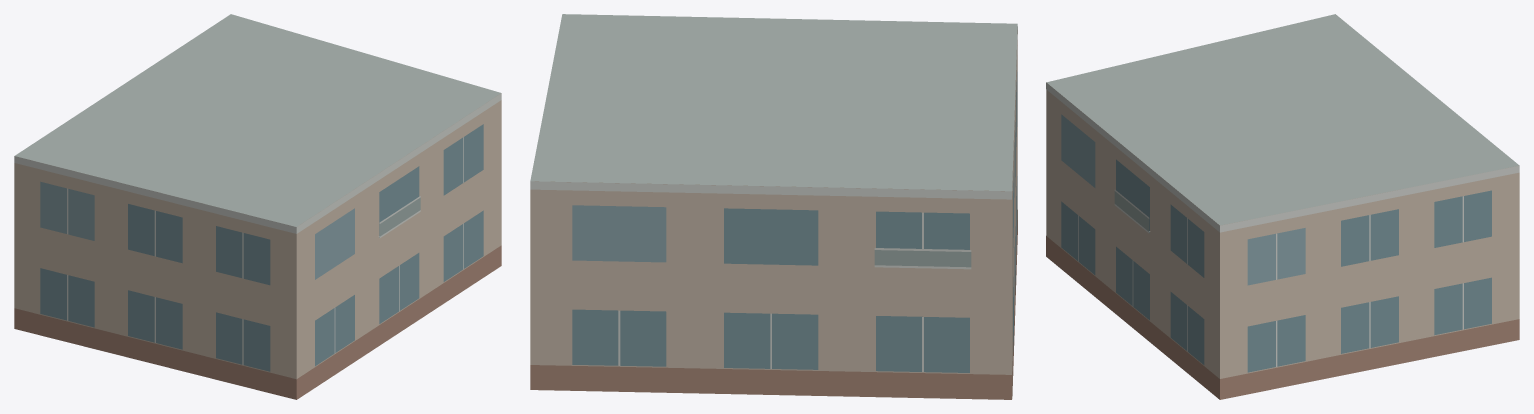
File: survey-upis-32687549.glb
3 views of the same model, side by side, from view 1: azimuth 30°, elevation 25°; view 2: azimuth 150°, elevation 25°; view 3: azimuth 270°, elevation 25° (orthographic). The views are drawn at different scales.
Parts seen in each view (by area): view 1: survey-upis-32687549.tmp; view 2: survey-upis-32687549.tmp; view 3: survey-upis-32687549.tmp.
Part boxes in pixels (left/top/right/bottom): survey-upis-32687549.tmp: left=14, top=14, right=501, bottom=399; survey-upis-32687549.tmp: left=530, top=14, right=1017, bottom=399; survey-upis-32687549.tmp: left=1046, top=14, right=1519, bottom=399.
Size of the model in its own units: 15.89 by 6.1 by 15.03.
